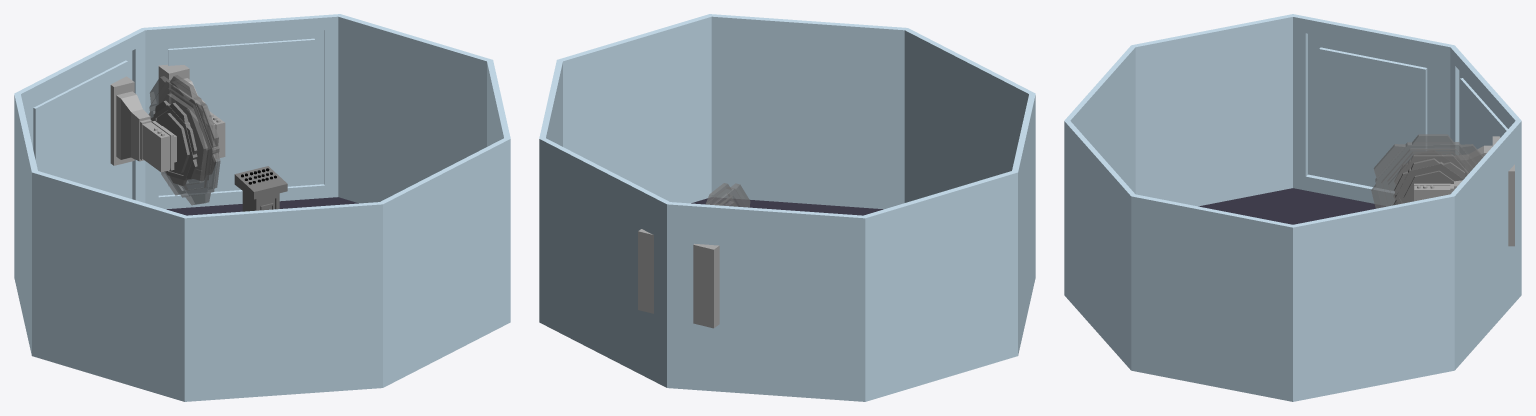
Rendered from engine_room.fbx.
3 views of the same model, side by side, from view 1: azimuth 30°, elevation 25°; view 2: azimuth 150°, elevation 25°; view 3: azimuth 270°, elevation 25° (orthographic). The views are drawn at different scales.
Parts seen in each view (by area): view 1: Circle, Cube, Circle.001, Circle.003, Cube.001, Circle.002, Circle.004; view 2: Circle, Cube, Circle.004, Circle.001; view 3: Circle, Circle.004, Circle.001, Circle.002, Cube, Circle.003.
Part boxes in pixels (x1=…): Circle: x1=14, y1=14, x2=510, y2=401; Cube: x1=110, y1=64, x2=225, y2=172; Circle.001: x1=148, y1=75, x2=220, y2=205; Circle.003: x1=151, y1=100, x2=197, y2=185; Cube.001: x1=234, y1=166, x2=287, y2=211; Circle.002: x1=175, y1=96, x2=215, y2=180; Circle.004: x1=166, y1=197, x2=358, y2=215; Circle: x1=539, y1=14, x2=1035, y2=401; Cube: x1=638, y1=229, x2=719, y2=328; Circle.004: x1=691, y1=197, x2=883, y2=215; Circle.001: x1=705, y1=183, x2=750, y2=207; Circle: x1=1064, y1=14, x2=1521, y2=401; Circle.004: x1=1198, y1=188, x2=1385, y2=224; Circle.001: x1=1371, y1=134, x2=1483, y2=208; Circle.002: x1=1393, y1=158, x2=1464, y2=205; Cube: x1=1414, y1=136, x2=1514, y2=246; Circle.003: x1=1394, y1=150, x2=1467, y2=199.
Bounding box in the file's own units: 2242 × 853 × 2029.
